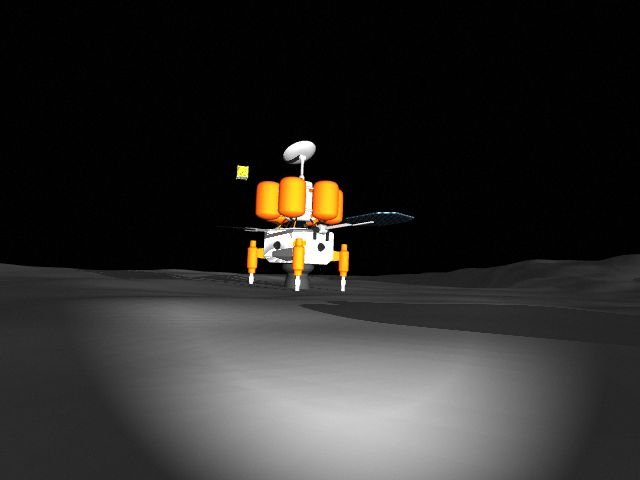cubesat: (229, 162, 252, 182)
